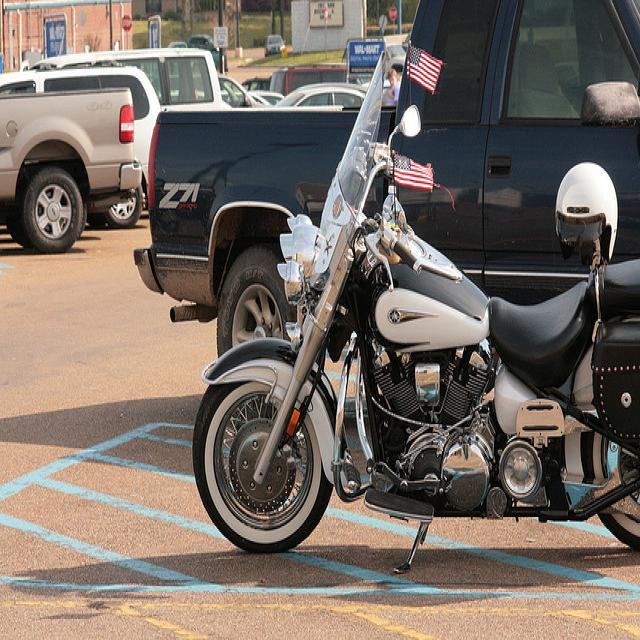motor: (185, 43, 640, 590)
